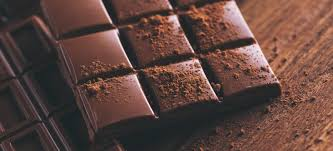Chocolate: (38, 2, 291, 136)
